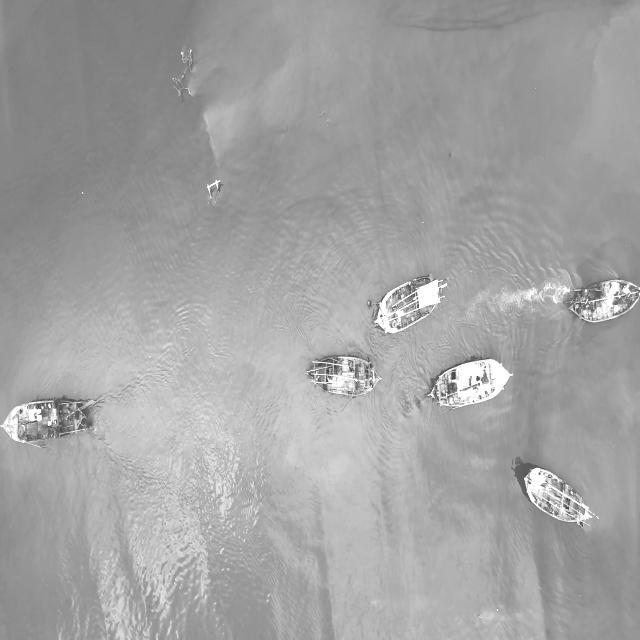ship: (518, 467, 599, 542), (369, 269, 450, 340), (5, 398, 96, 446), (434, 358, 514, 407), (563, 272, 639, 323), (304, 354, 385, 394)
